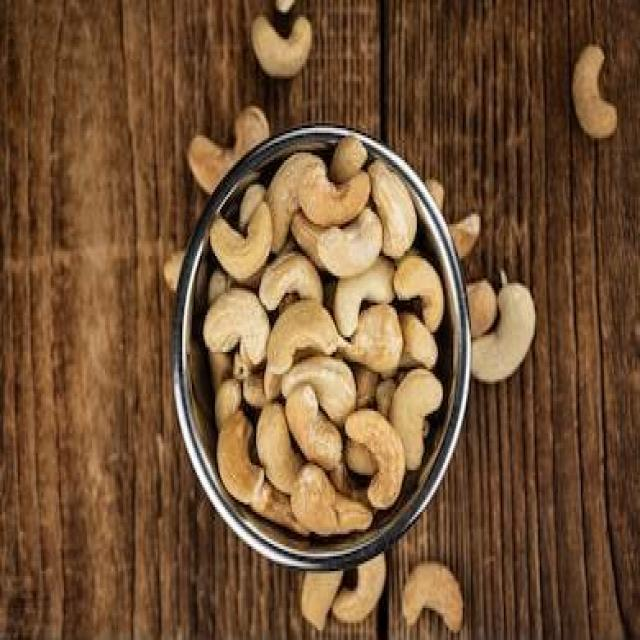Cashew: (229, 11, 360, 88), (554, 32, 630, 160), (487, 272, 548, 407), (266, 297, 346, 366), (191, 212, 283, 272), (399, 367, 445, 477), (392, 551, 453, 633), (310, 218, 392, 276), (209, 404, 258, 495), (209, 289, 273, 357), (180, 116, 282, 158), (357, 408, 392, 514), (290, 459, 336, 534), (455, 183, 475, 263), (472, 249, 488, 330), (163, 247, 184, 284)
